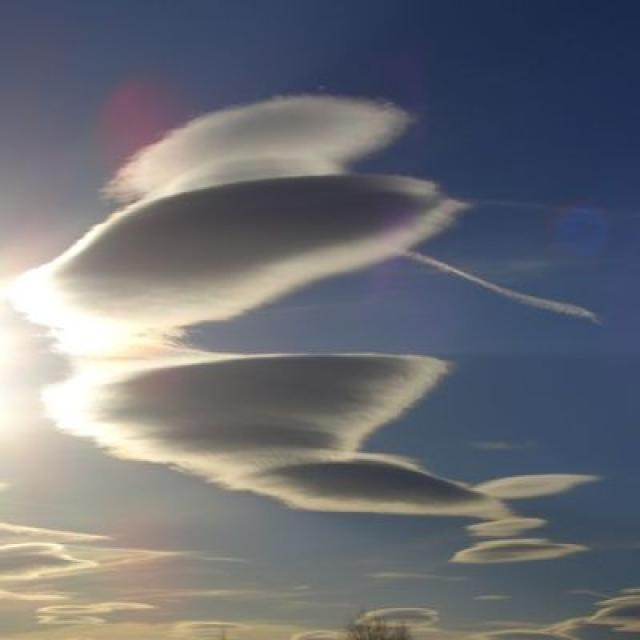Ac: (2, 73, 616, 578)
